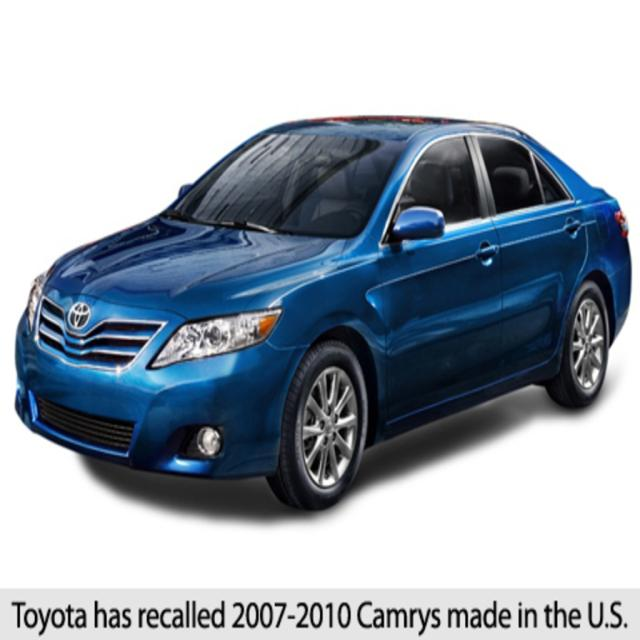car: (13, 114, 628, 513)
